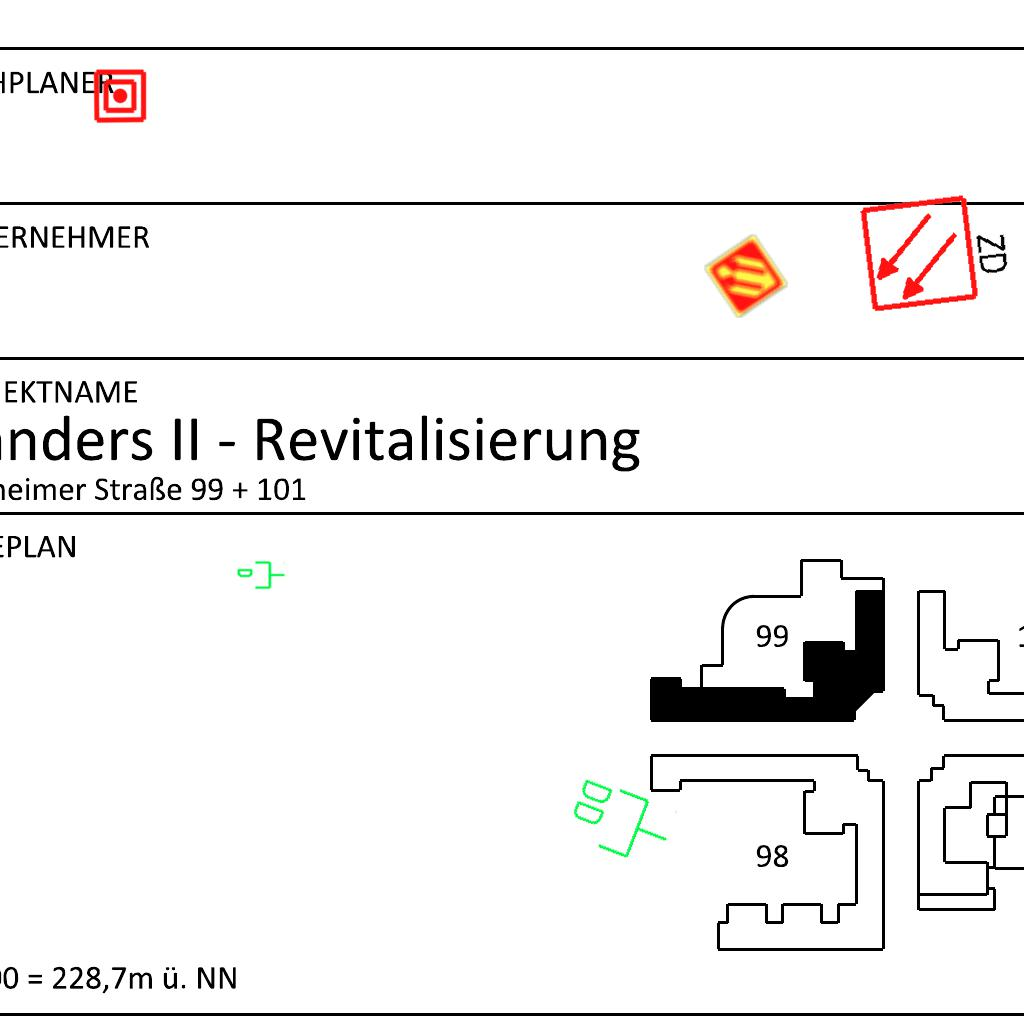ASR_Ansaugrauchmelder: (702, 232, 790, 320)
Datenanschluss_einfach: (236, 559, 286, 593)
Datenanschluss_zweifach: (560, 770, 681, 873)
NAM-Nichtautomatischer_Melder: (92, 68, 148, 124)
ZD_Melder_in_Zwischendecke_mit_Revisionsoeffnung_mind_40_x_40_cm: (857, 183, 1019, 316)
